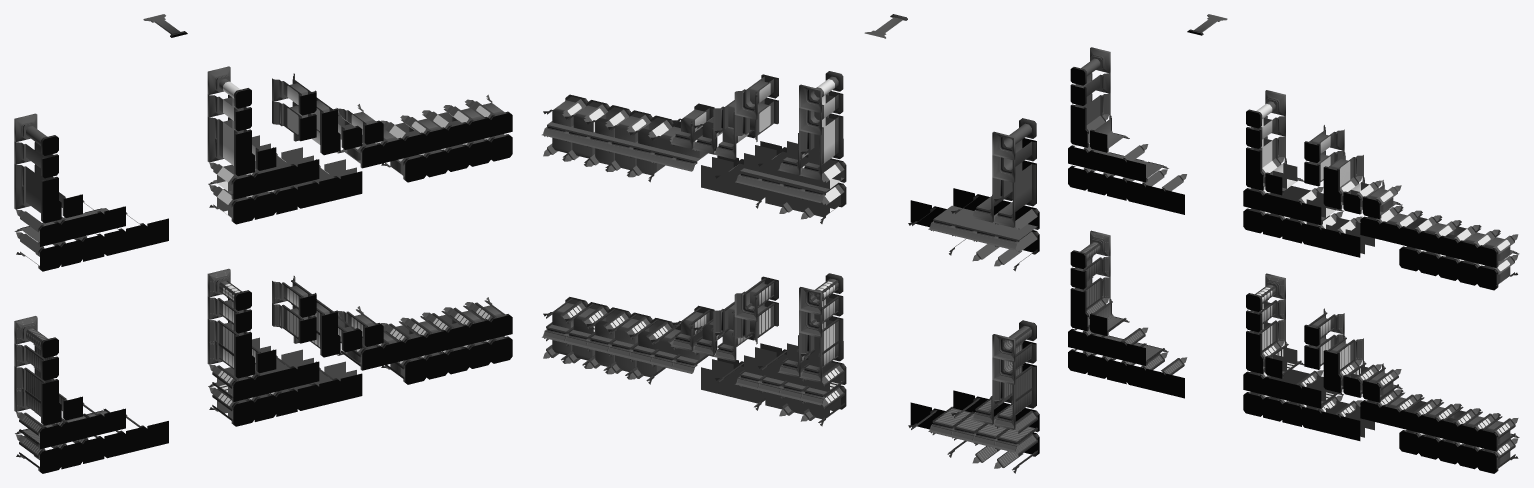
Rendered from walls windows.glb.
3 views of the same model, side by side, from view 1: azimuth 30°, elevation 25°; view 2: azimuth 150°, elevation 25°; view 3: azimuth 330°, elevation 25° (orthographic). The views are drawn at different scales.
Visible parts, largest first — view 1: Reinforced Window I-1, Reinforced Wall I, Reinforced Window I-1B, Window I-1, Window I-1B, Wall I, Reinforced Window C-1B, Reinforced Window T-1, Reinforced Window O, Window C-1B, Reinforced Wall O, Reinforced Window X-1 (+79 smaller); view 2: Reinforced Window C-1B, Window C-1B, Reinforced Window T-1, Window T-1, Window T-4, Window T-1E, Reinforced Window T-1E, Reinforced Wall I, Reinforced Wall T-1, Reinforced Window T-1H, Reinforced Window T-1G, Window T-1H (+56 smaller); view 3: Reinforced Window I-1C, Window I-1C, Reinforced Wall I, Wall I, Reinforced Window I-1, Window I-1, Reinforced Window T-1H, Reinforced Window L-1D, Window T-1H, Reinforced Window C-1B, Window L-1D, Window C-1B (+65 smaller).
Boxes of the visible parts, x1=… form: Reinforced Window I-1: x1=207, y1=319, x2=251, y2=359; Reinforced Wall I: x1=14, y1=366, x2=58, y2=406; Reinforced Window I-1B: x1=272, y1=303, x2=316, y2=343; Window I-1: x1=207, y1=117, x2=251, y2=156; Window I-1B: x1=272, y1=101, x2=316, y2=141; Wall I: x1=14, y1=164, x2=58, y2=203; Reinforced Window C-1B: x1=272, y1=276, x2=316, y2=317; Reinforced Window T-1: x1=208, y1=365, x2=254, y2=401; Reinforced Window O: x1=207, y1=268, x2=251, y2=310; Window C-1B: x1=272, y1=73, x2=316, y2=115; Reinforced Wall O: x1=14, y1=316, x2=58, y2=357; Reinforced Window X-1: x1=209, y1=387, x2=254, y2=426; Reinforced Window C-1B: x1=734, y1=276, x2=778, y2=321; Window C-1B: x1=734, y1=74, x2=778, y2=119; Reinforced Window T-1: x1=799, y1=361, x2=846, y2=405; Window T-1: x1=799, y1=158, x2=846, y2=202; Window T-4: x1=735, y1=141, x2=781, y2=187; Window T-1E: x1=606, y1=110, x2=652, y2=155; Reinforced Window T-1E: x1=606, y1=312, x2=652, y2=358; Reinforced Wall I: x1=992, y1=363, x2=1036, y2=407; Reinforced Wall T-1: x1=993, y1=408, x2=1039, y2=452; Reinforced Window T-1H: x1=542, y1=297, x2=587, y2=342; Reinforced Window T-1G: x1=563, y1=302, x2=609, y2=347; Window T-1H: x1=542, y1=94, x2=588, y2=140; Reinforced Window I-1C: x1=1323, y1=334, x2=1363, y2=374; Window I-1C: x1=1323, y1=150, x2=1363, y2=191; Reinforced Wall I: x1=1070, y1=276, x2=1110, y2=312; Wall I: x1=1070, y1=93, x2=1110, y2=129; Reinforced Window I-1: x1=1246, y1=319, x2=1285, y2=355; Window I-1: x1=1246, y1=136, x2=1285, y2=172; Reinforced Window T-1H: x1=1477, y1=413, x2=1519, y2=451; Reinforced Window L-1D: x1=1362, y1=363, x2=1402, y2=402; Window T-1H: x1=1477, y1=230, x2=1519, y2=267; Reinforced Window C-1B: x1=1304, y1=308, x2=1344, y2=346; Window L-1D: x1=1362, y1=180, x2=1402, y2=219; Window C-1B: x1=1304, y1=125, x2=1344, y2=162.
Size of the model in its own units: 22 by 18.09 by 2.07.
Materials: 3 (2 with a texture image).
